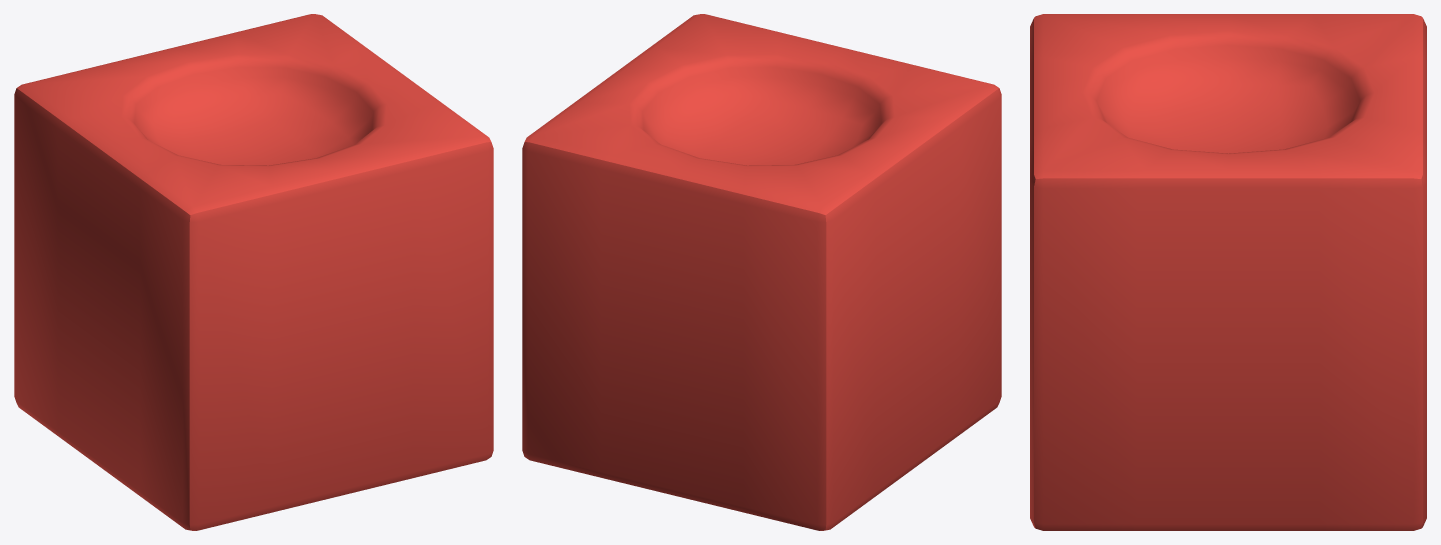
File: 3D_Chalk.fbx
3 views of the same model, side by side, from view 1: azimuth 30°, elevation 25°; view 2: azimuth 150°, elevation 25°; view 3: azimuth 270°, elevation 25° (orthographic). The views are drawn at different scales.
Parts seen in each view (by area): view 1: CraieDeBillard; view 2: CraieDeBillard; view 3: CraieDeBillard.
Part boxes in pixels (x1,y1,x2,y2): CraieDeBillard: [14, 14, 493, 530]; CraieDeBillard: [522, 14, 1001, 530]; CraieDeBillard: [1030, 14, 1426, 530].
Bounding box in the file's own units: 3 × 3 × 3.
